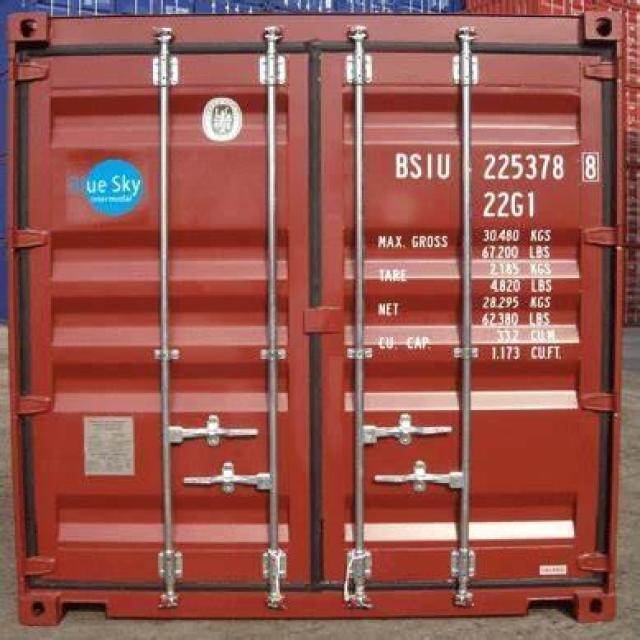ISO: (482, 190, 537, 220)
container_number: (400, 146, 596, 185)
